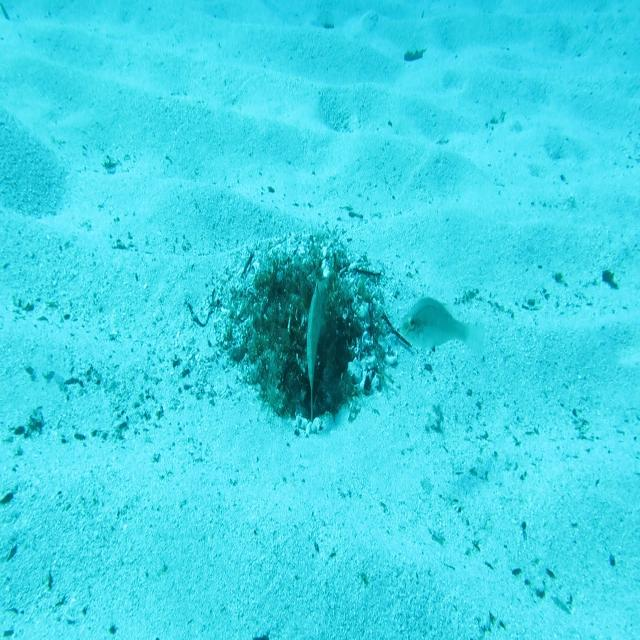FAN: (305, 270, 333, 430)
core_nest: (279, 276, 321, 300)
female: (396, 292, 489, 359)
nest: (211, 220, 409, 452)
vegetation: (401, 48, 428, 66), (602, 270, 619, 291)
